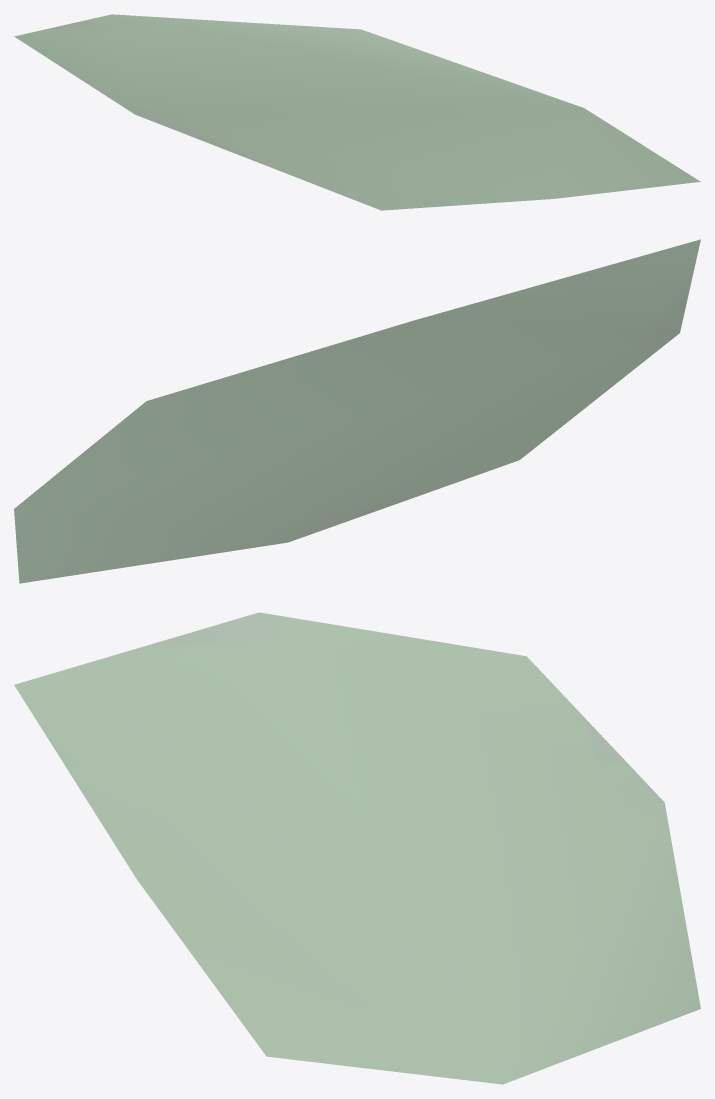
Rendered from TROLLHOLE02_HOLECAP186.fbx.
The picture shows the model from 3 angles, top to bottom: view 1: azimuth 30°, elevation 25°; view 2: azimuth 150°, elevation 25°; view 3: azimuth 270°, elevation 25°; orthographic projection. The views are drawn at different scales.
Parts seen in each view (by area): view 1: TROLLHOLE02_HOLECAP186; view 2: TROLLHOLE02_HOLECAP186; view 3: TROLLHOLE02_HOLECAP186.
Boxes of the visible parts, x1,y1,x2,y2 form: TROLLHOLE02_HOLECAP186: [14, 14, 700, 210]; TROLLHOLE02_HOLECAP186: [14, 239, 700, 583]; TROLLHOLE02_HOLECAP186: [14, 612, 700, 1084].
Bounding box in the file's own units: 12613 × 4829 × 14124.
1 material, 1 textured.
